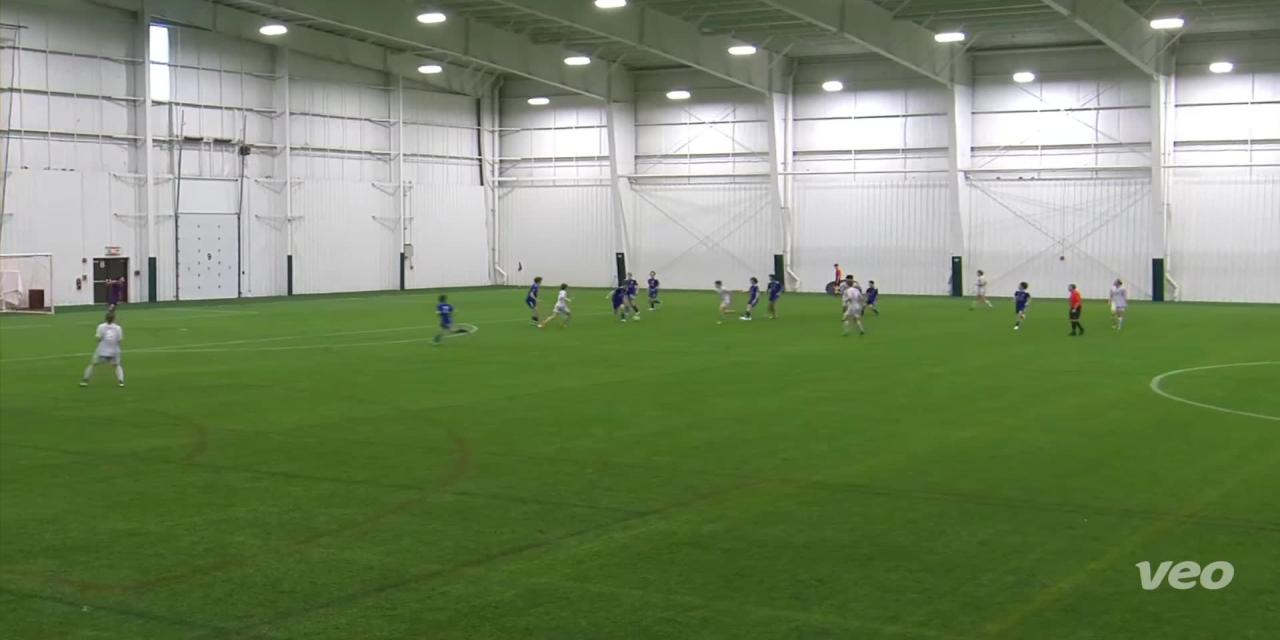goal: (0, 247, 60, 323)
sports ball: (628, 312, 646, 326)
